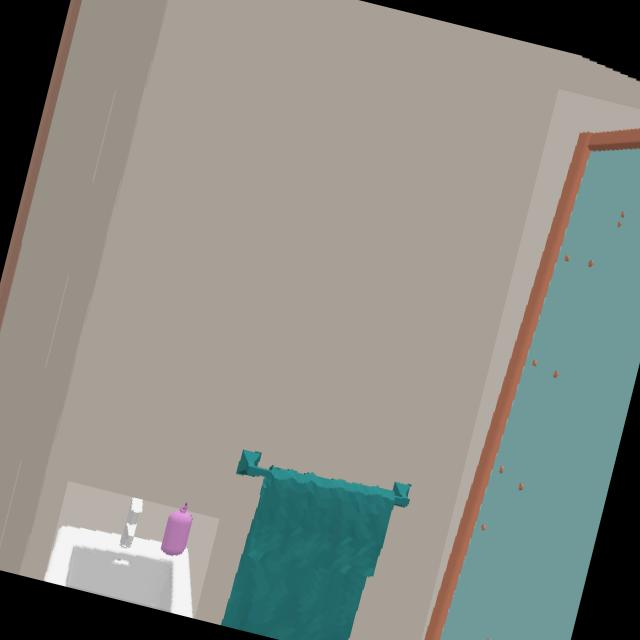shower: (423, 128, 640, 640)
washbasin: (44, 498, 194, 617)
